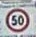limite 50: (5, 7, 30, 32)
